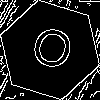O: (25, 25, 77, 80)
